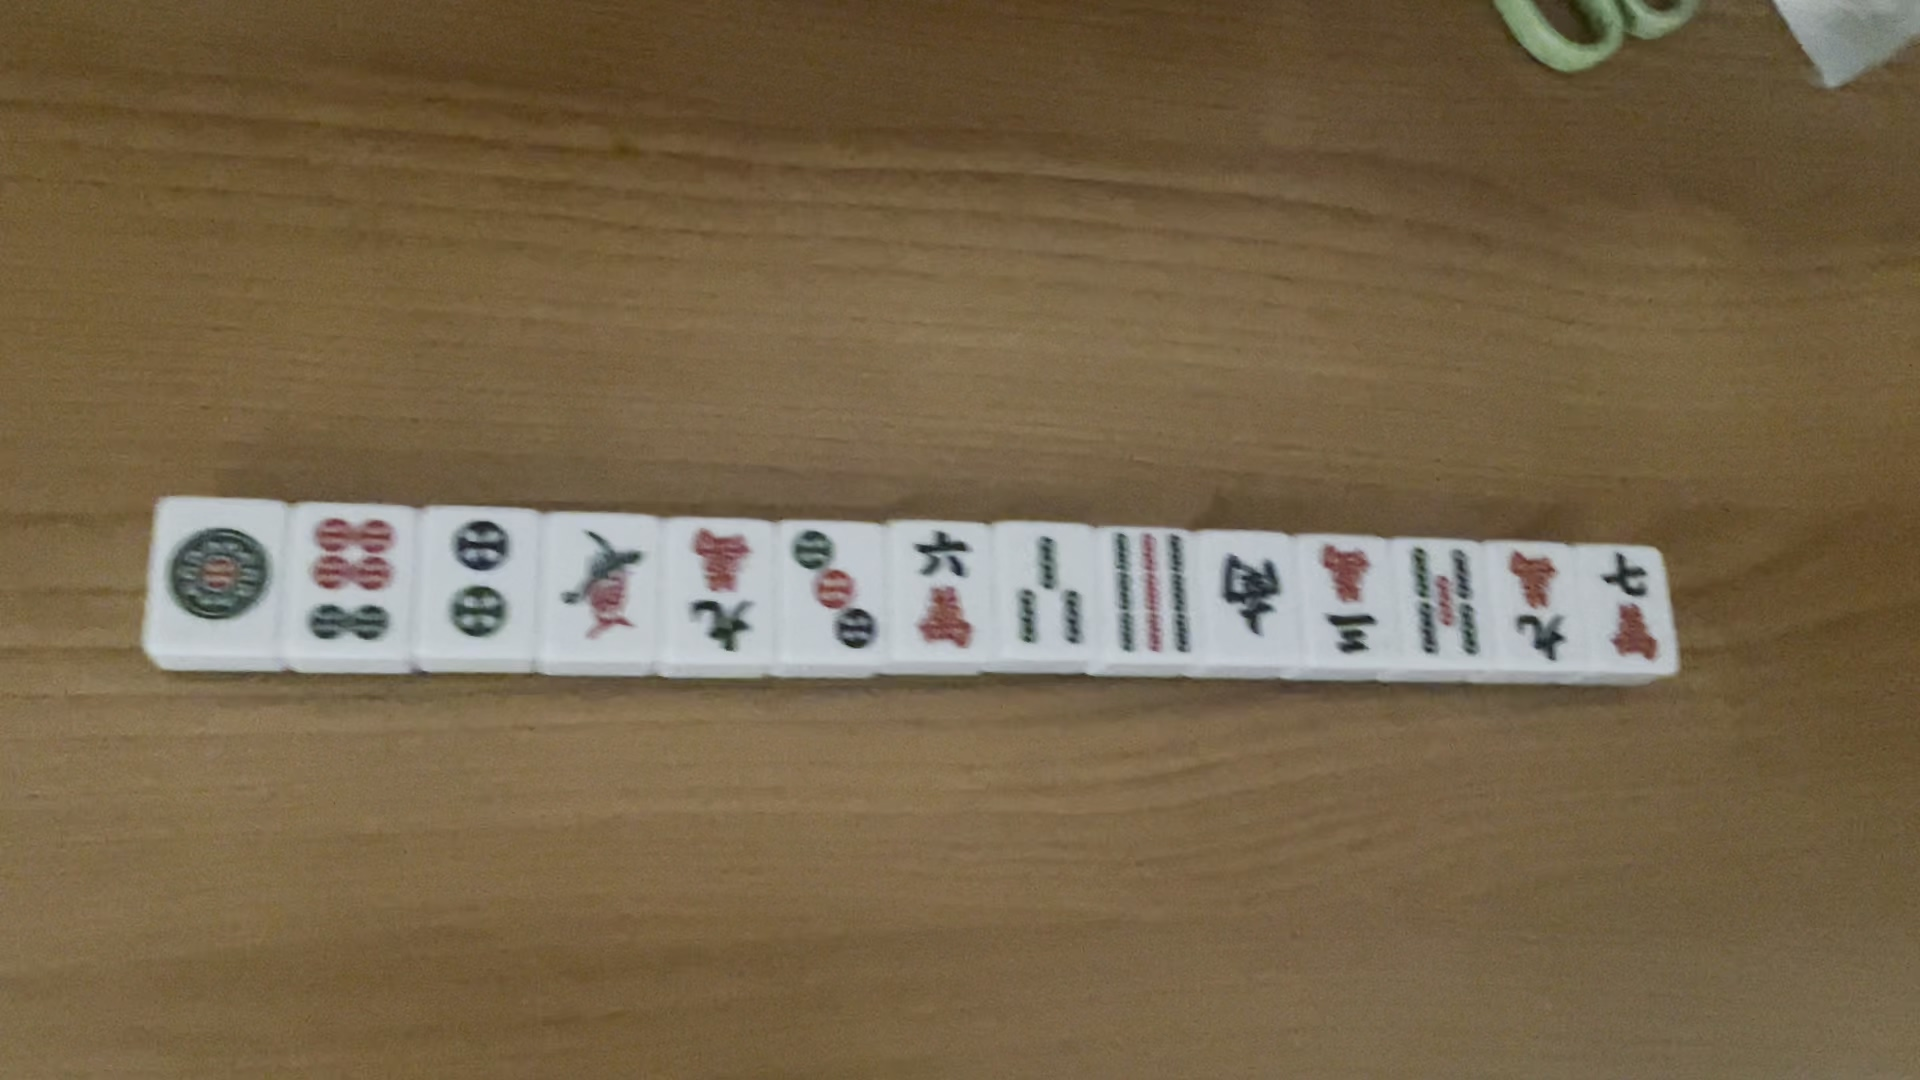b-1: (558, 517, 649, 644)
b-3: (1304, 535, 1385, 667), (1011, 535, 1089, 653)
b-5: (1399, 543, 1486, 663)
b-9: (1102, 530, 1193, 657)
c-6: (905, 527, 977, 647)
c-7: (1590, 549, 1667, 665)
c-9: (678, 521, 761, 659), (1497, 546, 1578, 673)
d-1: (156, 512, 276, 626)
d-2: (439, 508, 520, 651)
d-3: (781, 527, 878, 650)
d-6: (295, 516, 402, 644)
honors-south: (1211, 549, 1280, 641)
